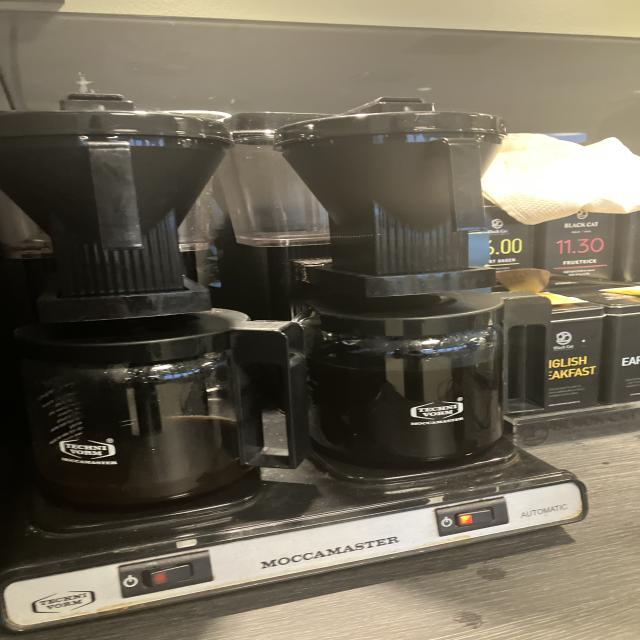coffee: (0, 300, 272, 521), (287, 297, 554, 478)
